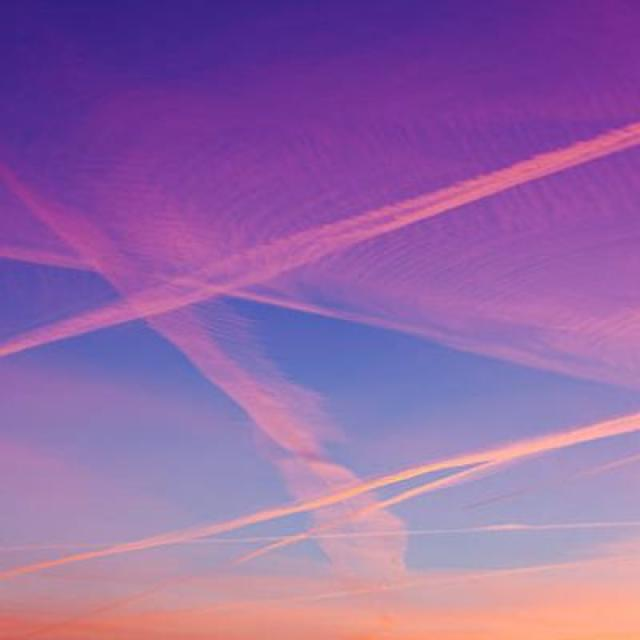Ct: (1, 156, 616, 564)
